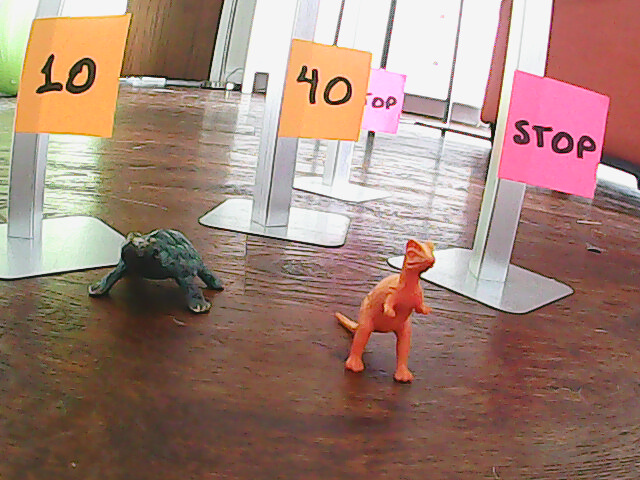10: (33, 26, 113, 126)
40: (291, 48, 359, 141)
dinosaur: (325, 233, 441, 389)
stop: (509, 94, 596, 194)
turtle: (83, 226, 227, 324)
